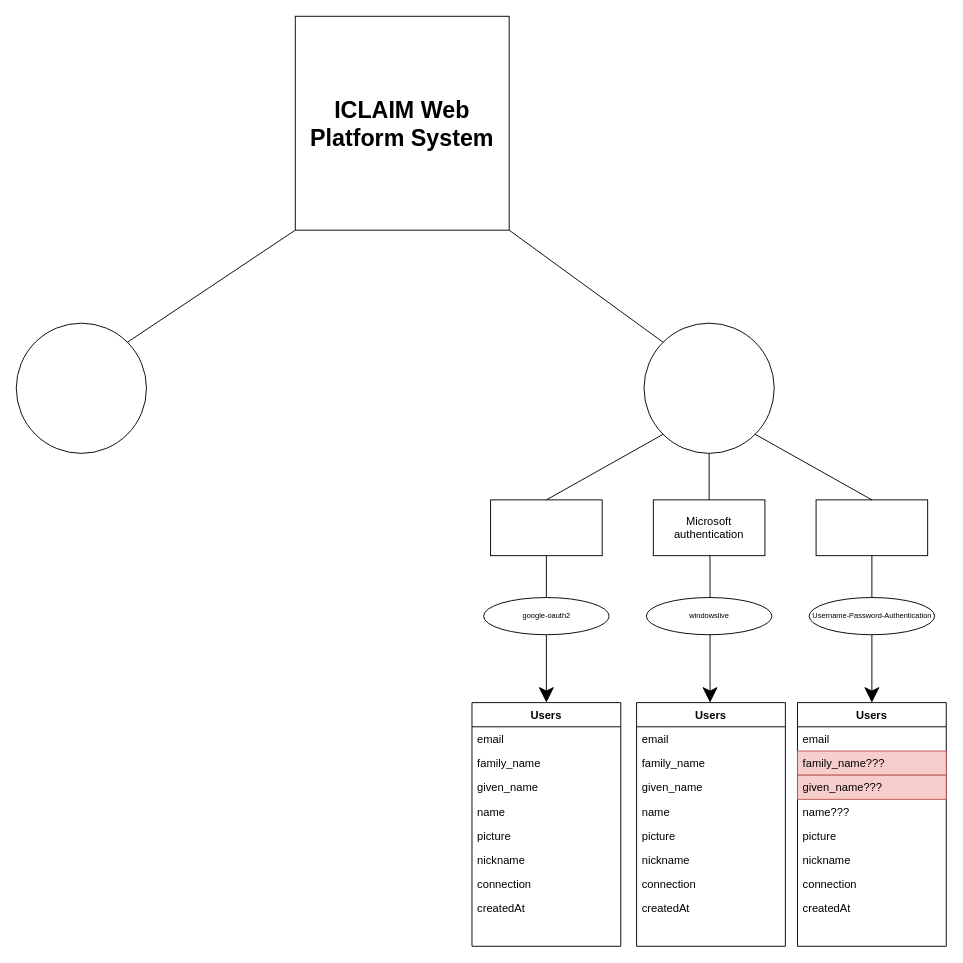
The diagram is 963 pixels wide and 963 high, and some of its shapes have lost their labels. The shapes that lost their labels are listed below. From the top down, each one's centre as x and y in pixels, then its label:
[80,387]: firestore
[708,387]: auth0
[546,527]: Google authentication
[871,527]: Email authentication
